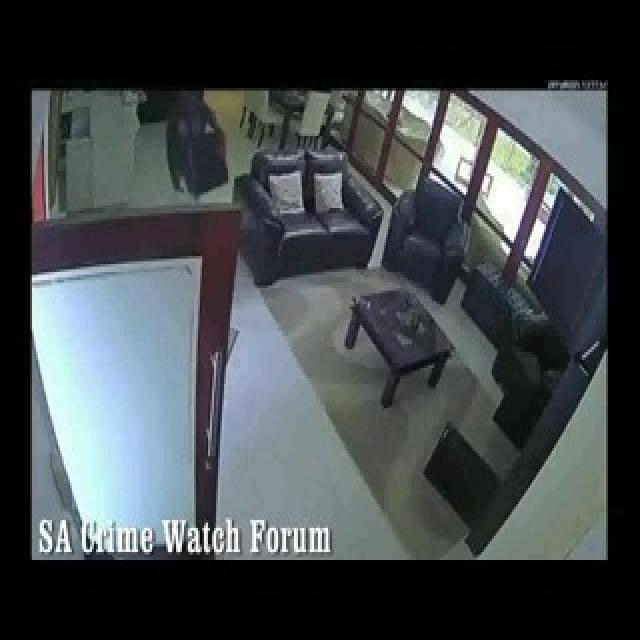thief: (172, 92, 240, 183)
